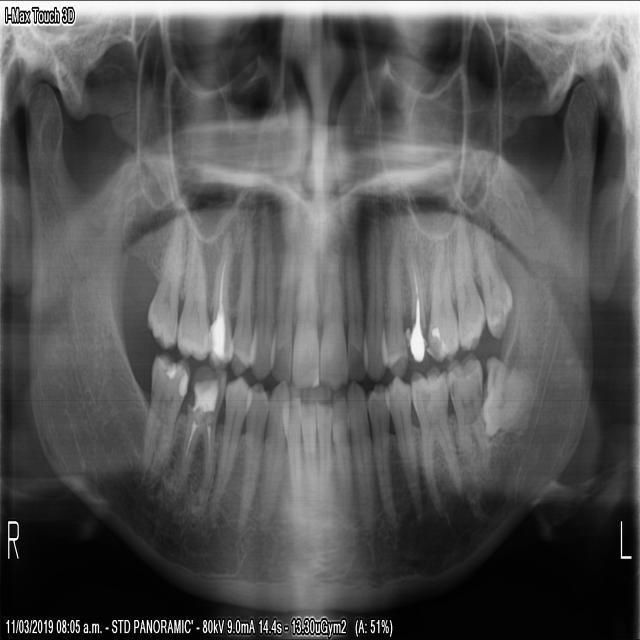LCD: (344, 373, 377, 537)
LCU: (360, 209, 388, 383)
LID: (328, 383, 353, 517), (312, 393, 331, 504)
LIU: (317, 238, 348, 396), (342, 227, 370, 383)
LMD: (407, 360, 464, 528), (444, 351, 489, 474), (476, 351, 533, 444)
LMU: (468, 208, 514, 345), (449, 207, 486, 357), (425, 227, 460, 365)
LPMD: (383, 370, 425, 532), (365, 378, 396, 534)
LPMU: (378, 225, 407, 378), (402, 235, 431, 369)
RCD: (257, 371, 289, 533)
RCU: (244, 204, 277, 382)
RID: (277, 389, 304, 512), (295, 391, 319, 510)
RIU: (288, 232, 318, 393), (266, 232, 294, 383)
RMD: (174, 359, 230, 514), (135, 345, 190, 488)
RMU: (142, 217, 186, 353), (174, 223, 210, 364)
RPMD: (203, 366, 253, 526), (232, 376, 270, 533)
RPMU: (202, 219, 236, 373), (225, 214, 256, 377)
